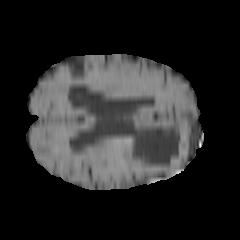glioma: (64, 95, 190, 172)
